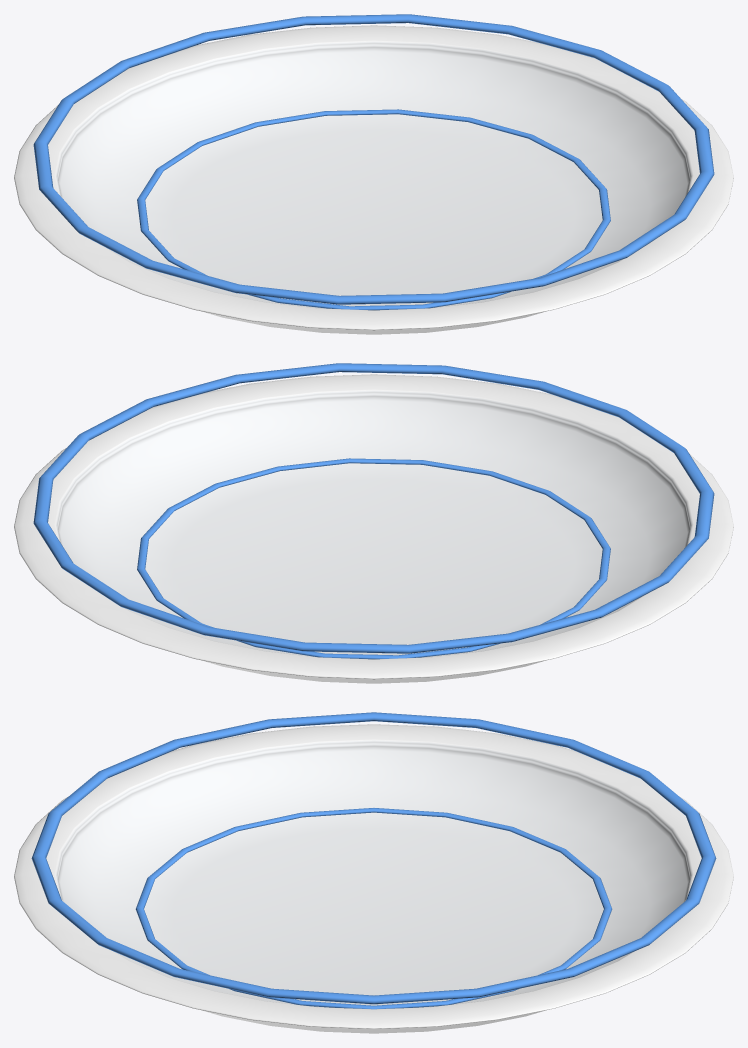
The model's file is plate_small.gltf.
3 views of the same model, one above another, from view 1: azimuth 30°, elevation 25°; view 2: azimuth 150°, elevation 25°; view 3: azimuth 270°, elevation 25° (orthographic).
Visible parts, largest first — view 1: PlateBody; view 2: PlateBody; view 3: PlateBody.
Boxes of the visible parts, x1,y1,x2,y2 form: PlateBody: [14, 14, 733, 334]; PlateBody: [14, 363, 733, 683]; PlateBody: [14, 712, 733, 1033].
Size of the model in its own units: 0.5397 by 0.0702 by 0.5397.
